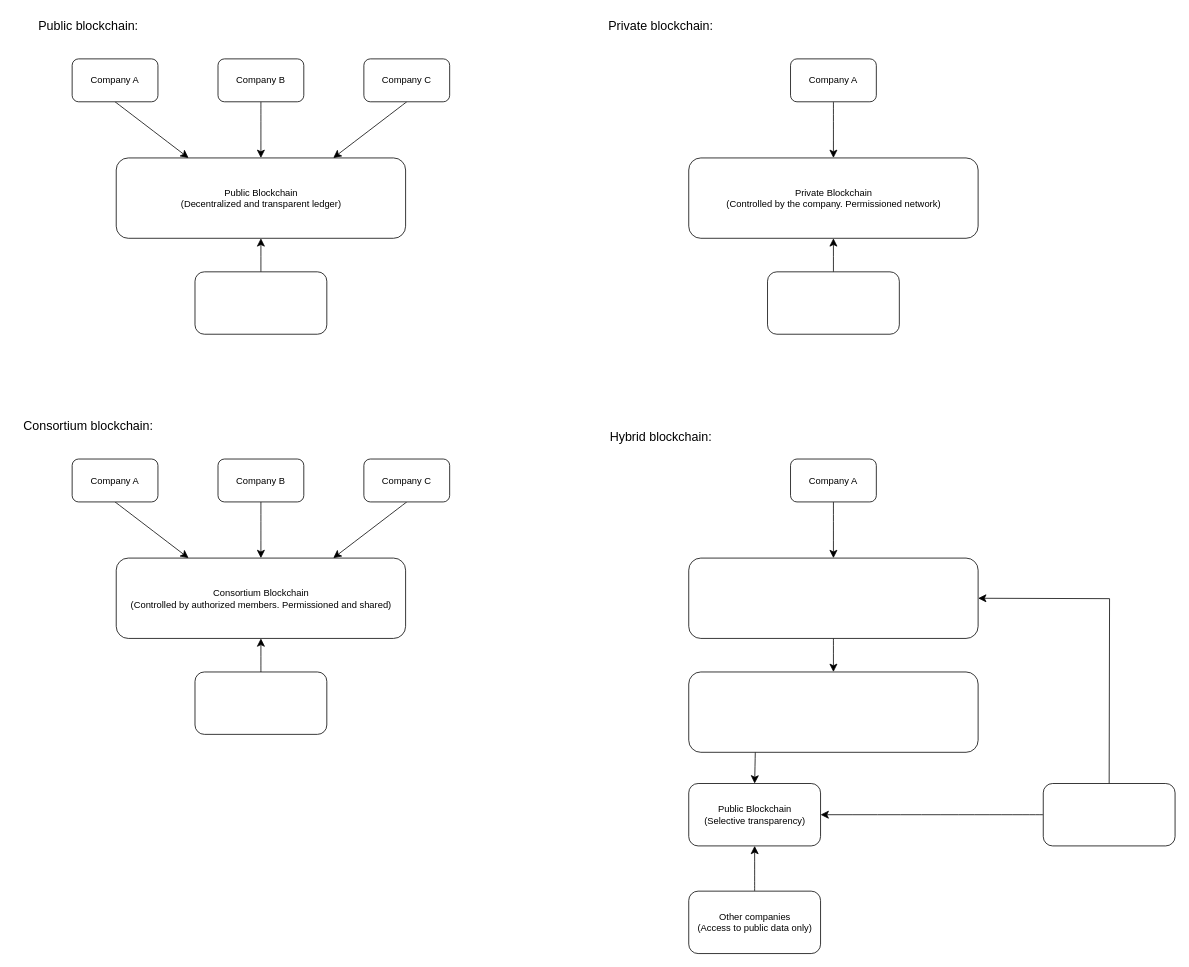
This 1189x967 diagram has some shape labels left out. Here are the shapes that lost their labels. From the top down, the centre of each, then its label:
(260,302): Auditor Direct unrestricted access
(833,302): Auditor Permision accessed
(833,597): Private Blockchain (Sensitive data. Restricted)
(260,702): Auditor Permissioned access
(833,711): Hybrid Gateway (Interface between private and public blockchain)
(1108,814): Auditor (Access to both private and public data with permission)
